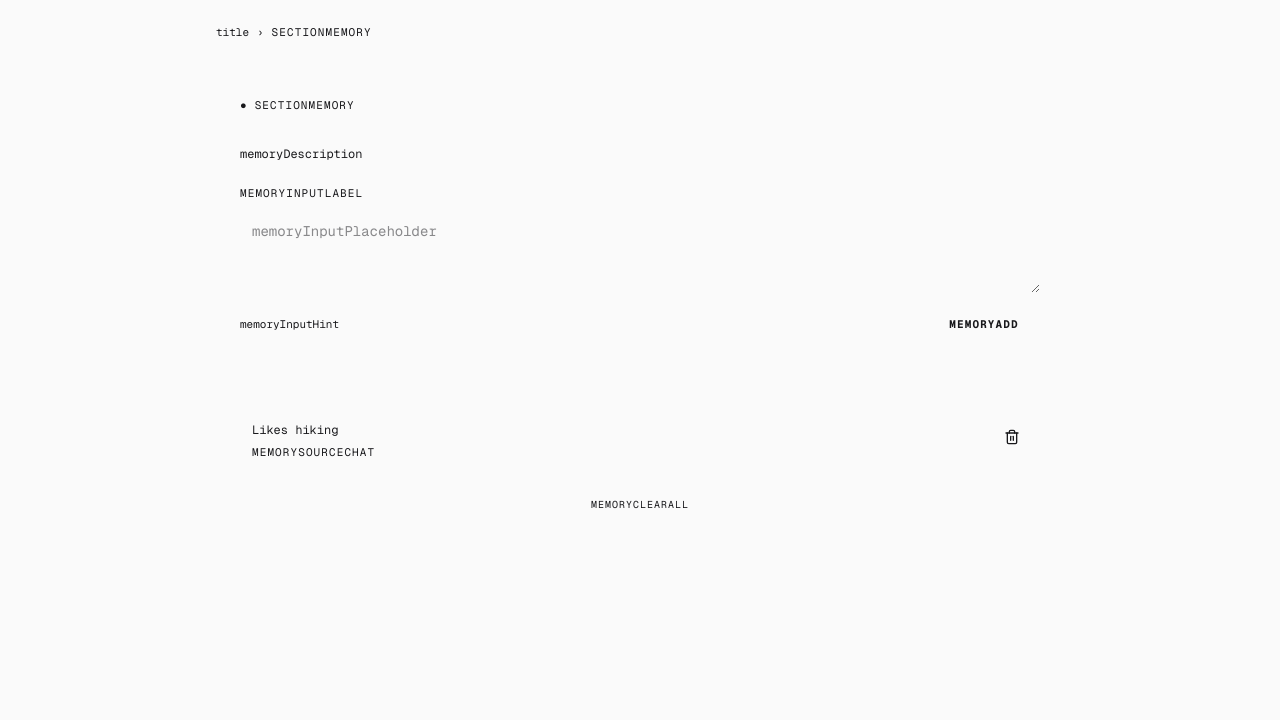
memory settings page › clears the list only after server confirmation
Expected: the text "Likes hiking" is shown, x1=252 y1=422 x2=338 y2=438
Click the button "memoryClearAll". click: point(640, 504)
box: x1=240 y1=488 x2=1040 y2=520
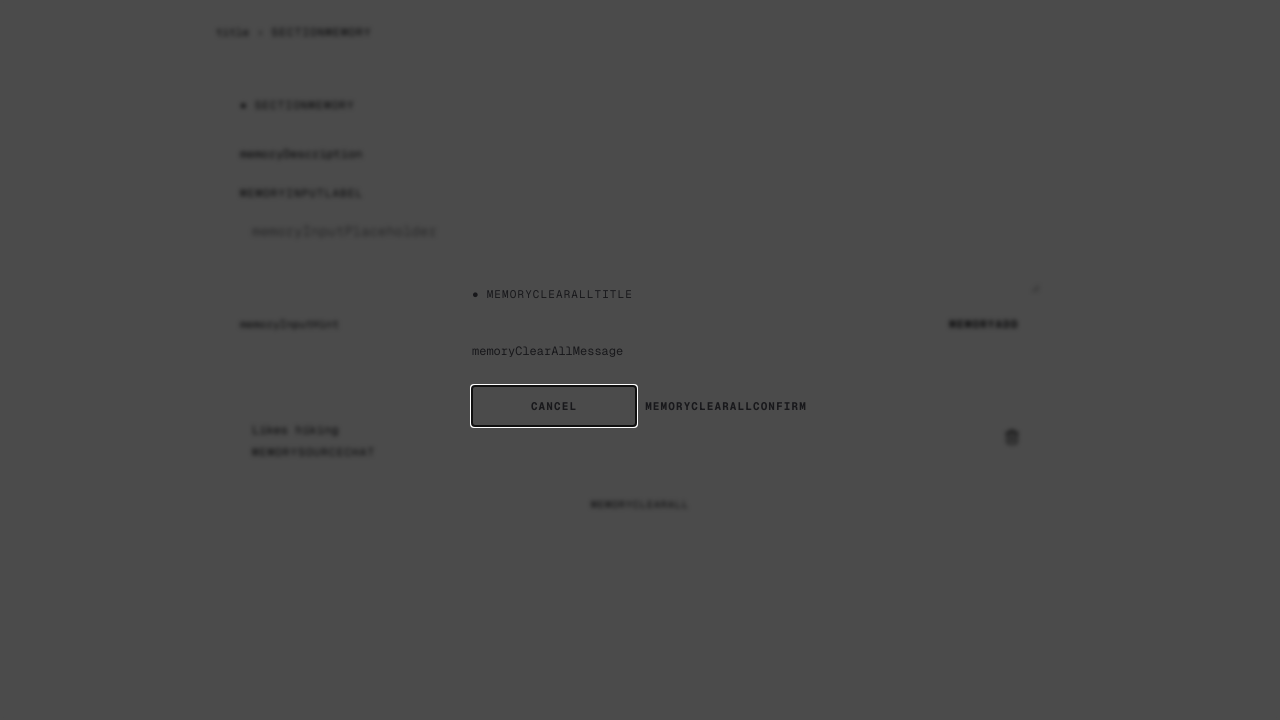
Click the button "memoryClearAllConfirm". click: point(726, 406)
box: x1=644 y1=386 x2=808 y2=426
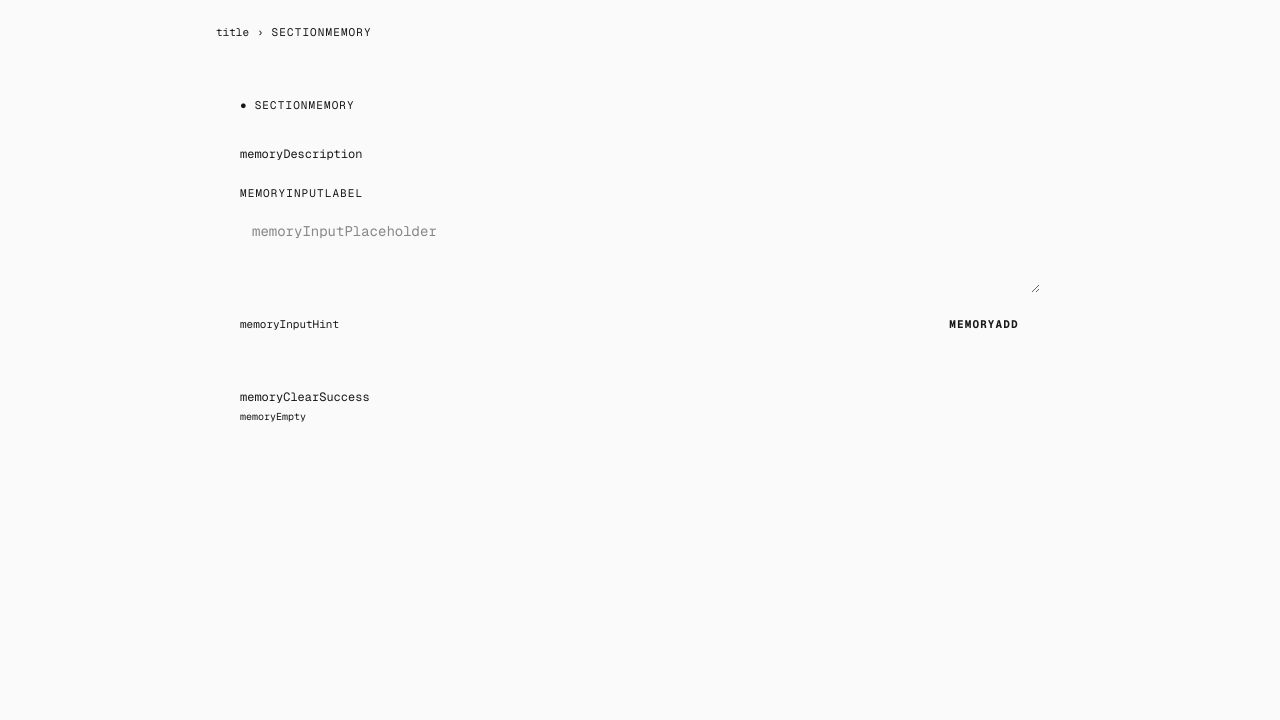
Expected: the text "memoryEmpty" is shown, x1=240 y1=410 x2=306 y2=422
Expected: the text "Likes hiking" is gone
